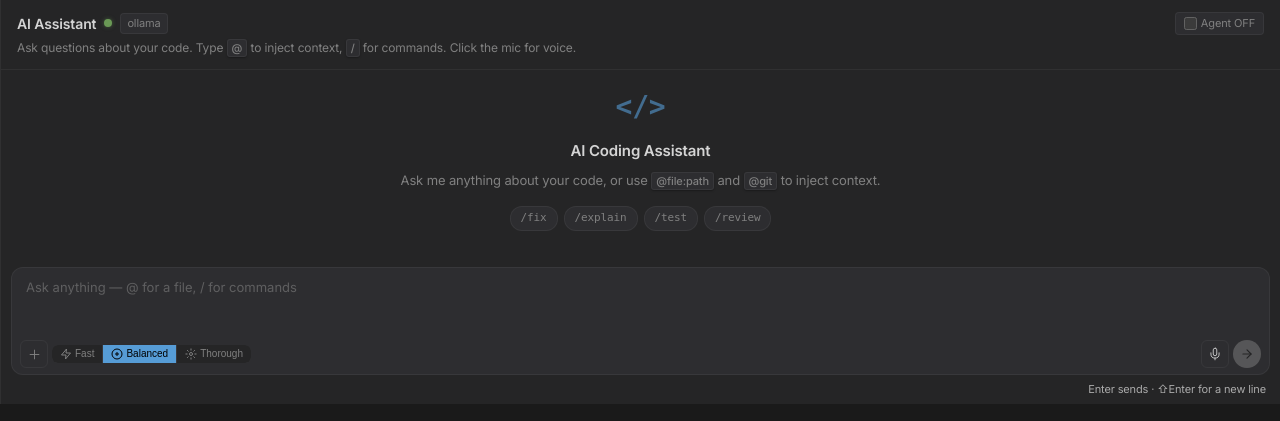
AIChat › shows typing indicator when loading
The image size is (1280, 421).
Type "Hello" into the text box with placeholder "Ask anything — @ for a file, / for commands". click: (640, 302)
box: [12, 268, 1269, 336]
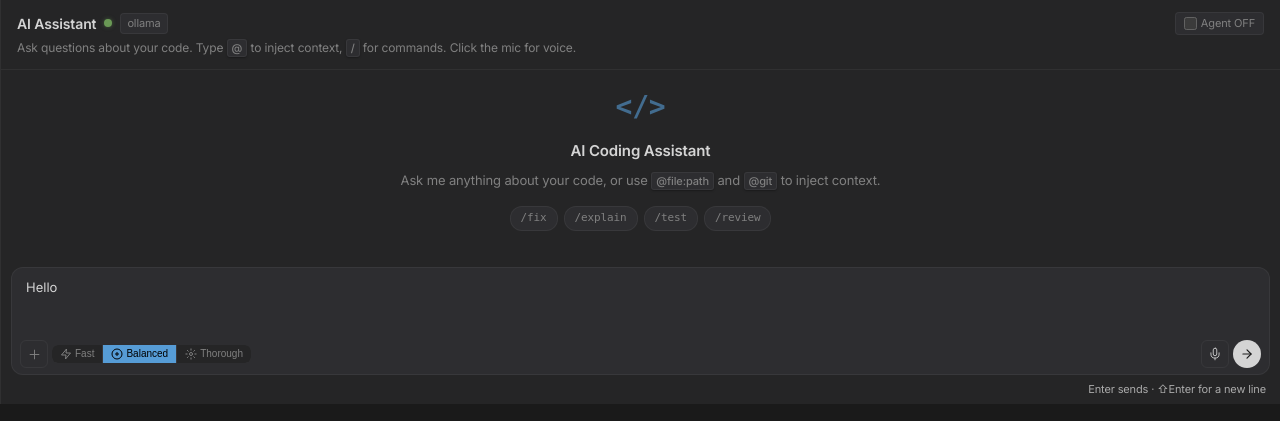
Press Enter in the text box with placeholder "Ask anything — @ for a file, / for commands", box [12, 268, 1269, 336]
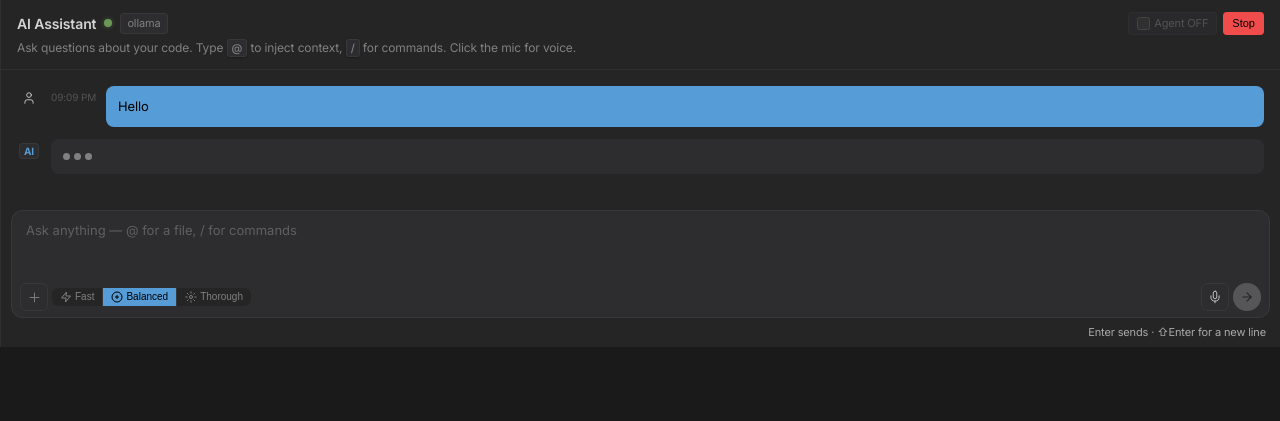
Expected: the element with class "typing-indicator" is shown, [63, 153, 92, 160]
